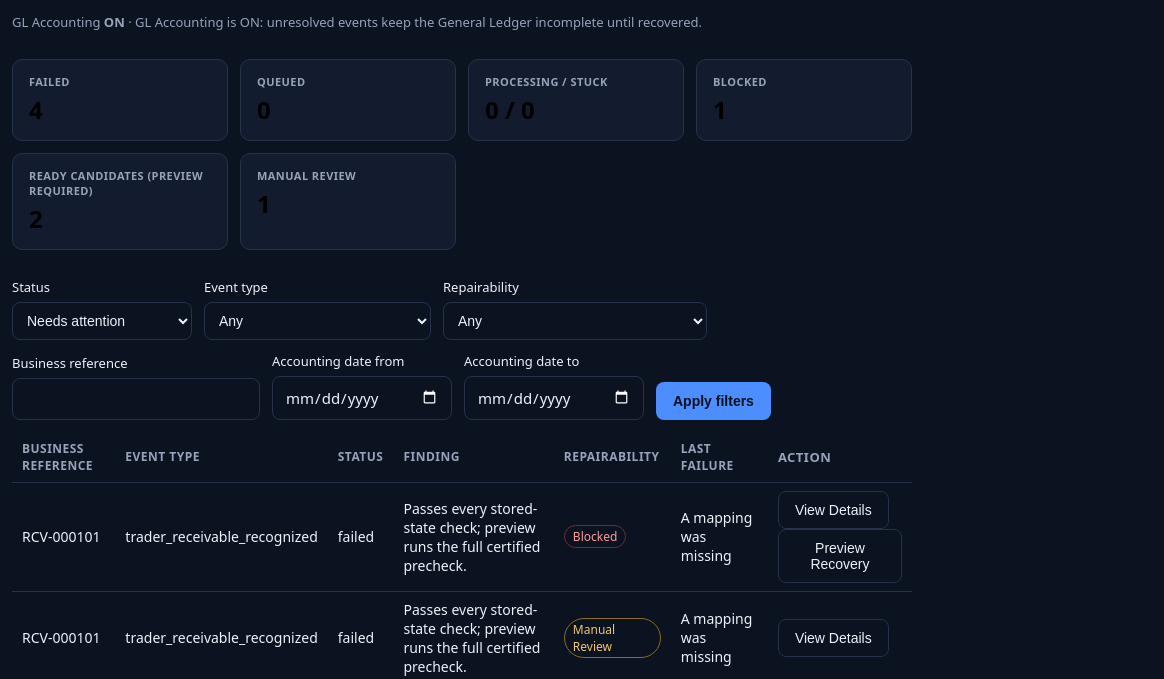
it: Repair Center -- Accounting Health › BLOCKED / MANUAL_REVIEW / NOT_REQUIRED never offer Execute; details hide raw payload behind diagnostics
Click the button "Preview Recovery": [840, 556] box [778,529,902,583]
(page scrolled)
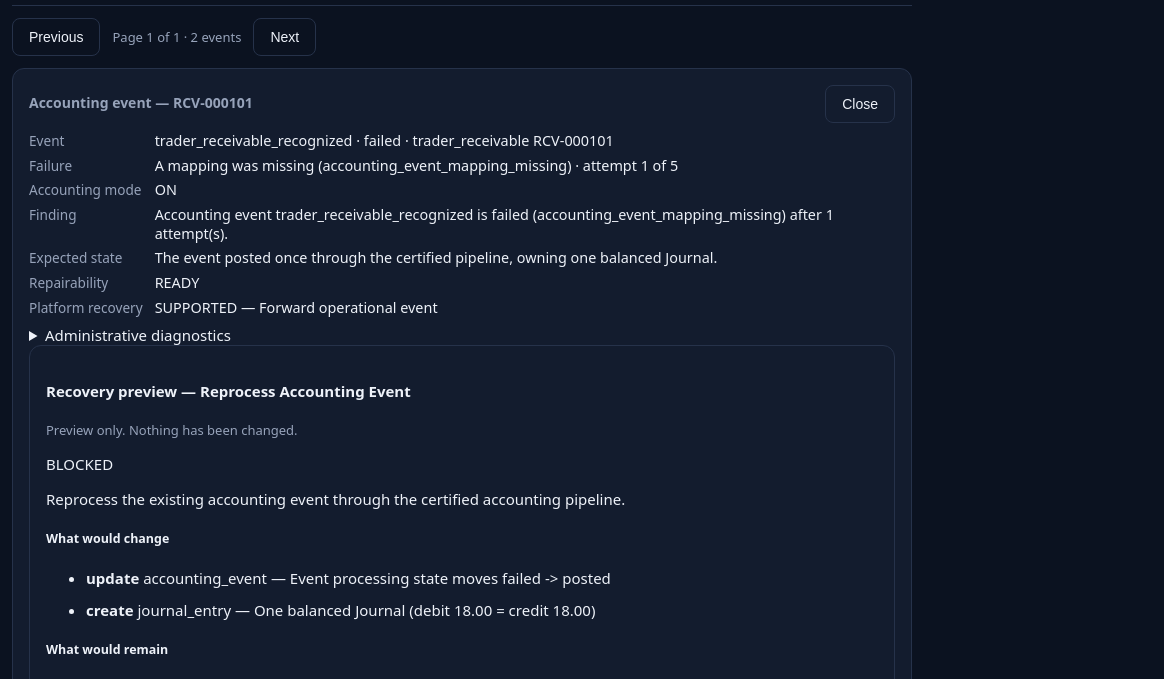
Expected: the heading "Administrative diagnostics" is shown, [45,324,231,344]
